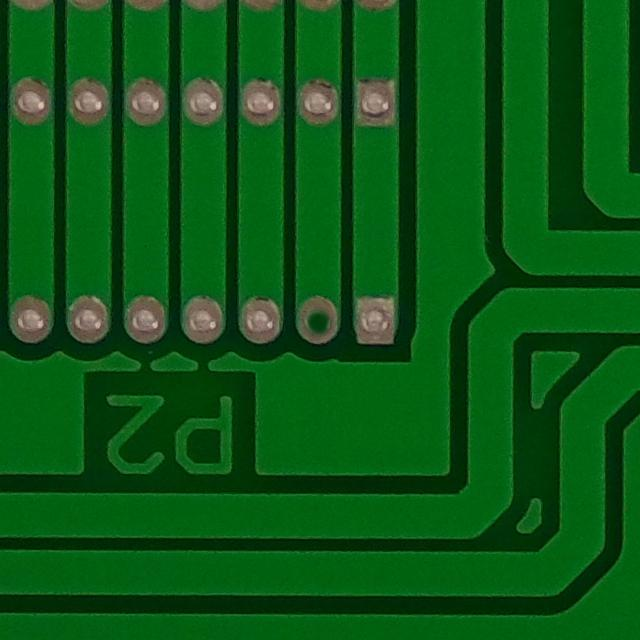missing_hole: (290, 289, 350, 351)
